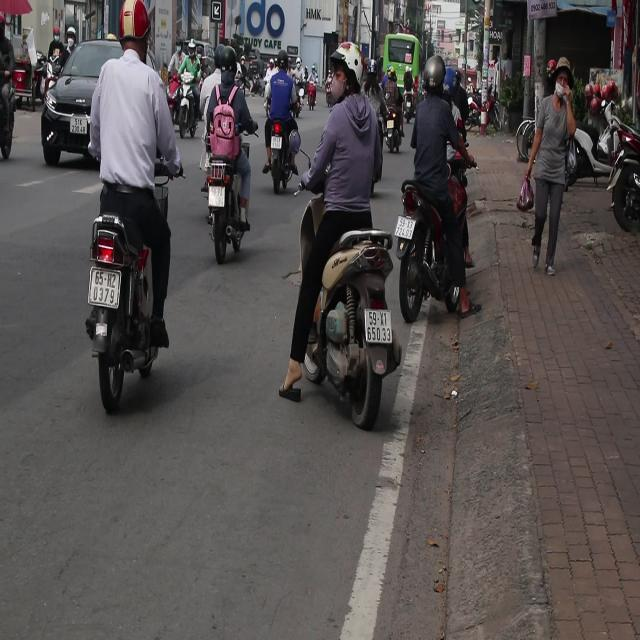bus: (381, 32, 420, 78)
car: (42, 51, 146, 158)
motorbike: (295, 202, 394, 435), (75, 209, 174, 402), (395, 176, 474, 340), (200, 139, 252, 264), (599, 94, 639, 234), (266, 122, 301, 194), (161, 61, 188, 131), (185, 69, 201, 140), (306, 78, 328, 128), (385, 111, 406, 152), (42, 46, 57, 85)
